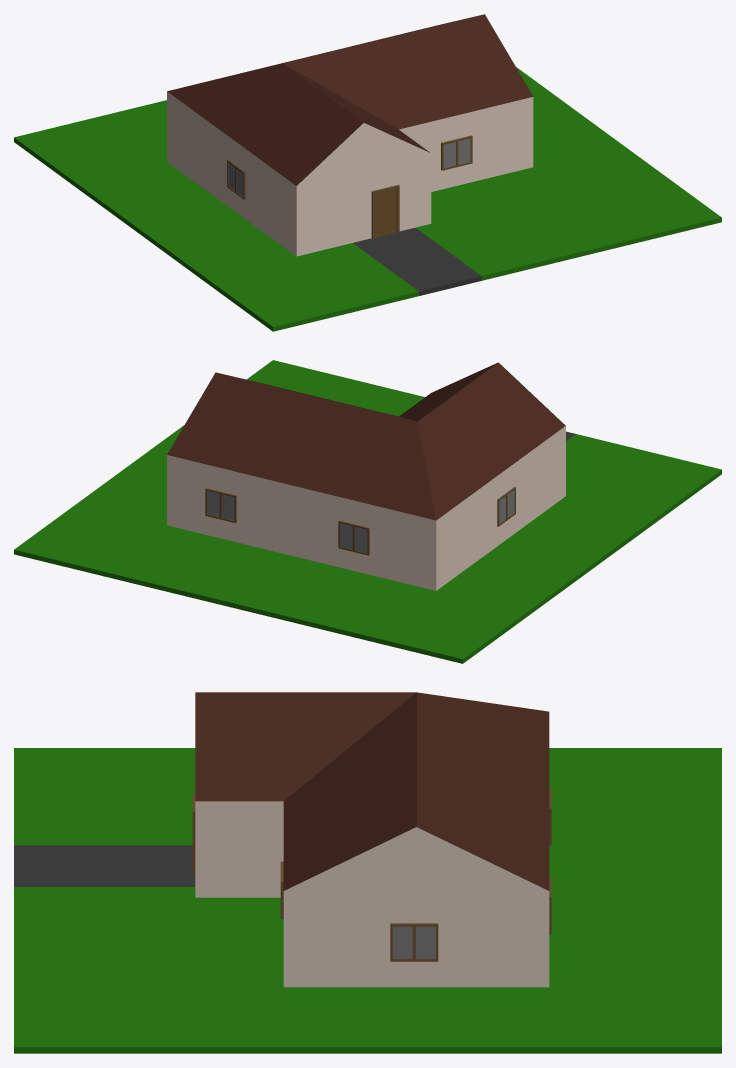
The model's file is House.fbx.
The picture shows the model from 3 angles, top to bottom: view 1: azimuth 30°, elevation 25°; view 2: azimuth 150°, elevation 25°; view 3: azimuth 270°, elevation 25°; orthographic projection. The views are drawn at different scales.
Parts seen in each view (by area): view 1: House, Home Base, Road; view 2: House, Home Base; view 3: Home Base, House, Road.
Part boxes in pixels (x1,y1,x2,y2): House: [167, 14, 533, 256]; Home Base: [14, 67, 721, 331]; Road: [353, 227, 481, 295]; House: [167, 362, 565, 590]; Home Base: [14, 360, 721, 663]; Home Base: [14, 748, 721, 1053]; House: [192, 692, 551, 987]; Road: [14, 845, 195, 886].
Size of the model in its own units: 2000 by 520 by 2000.
